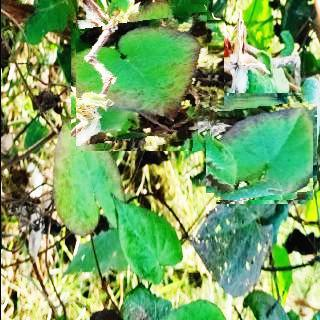leaf spot: (75, 7, 218, 151), (208, 97, 312, 200)
